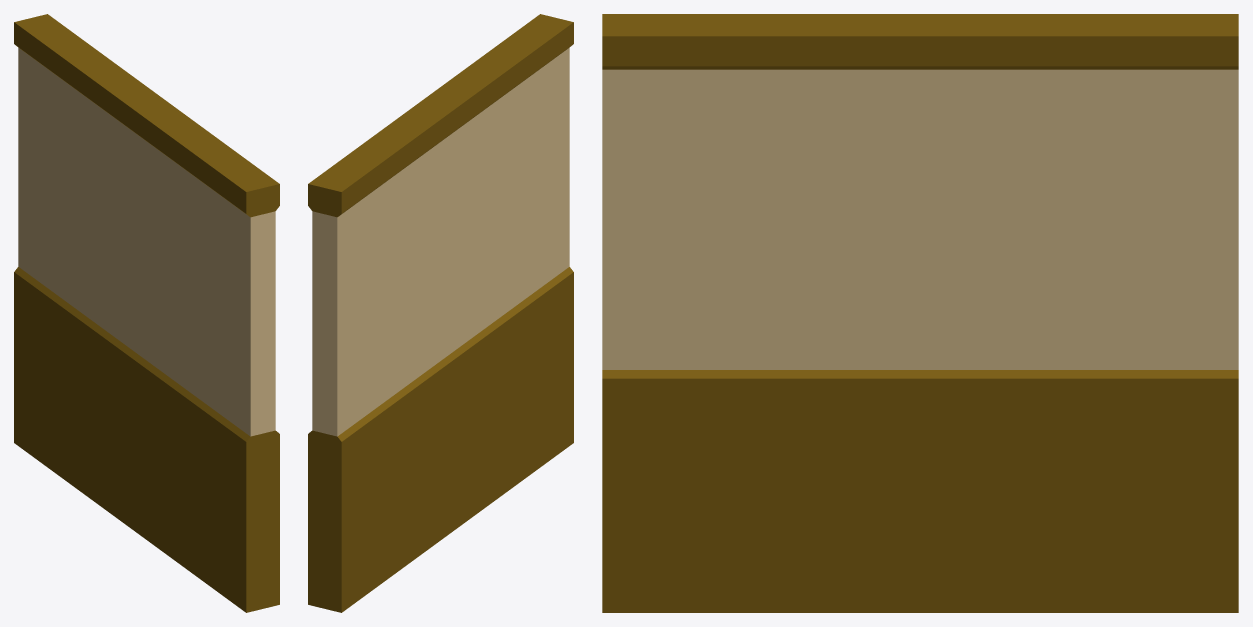
Rendered from Classic_Wall_snaps001_01.fbx.
3 views of the same model, side by side, from view 1: azimuth 30°, elevation 25°; view 2: azimuth 150°, elevation 25°; view 3: azimuth 270°, elevation 25° (orthographic). The views are drawn at different scales.
Parts seen in each view (by area): view 1: Classic_Wall_snaps001_01; view 2: Classic_Wall_snaps001_01; view 3: Classic_Wall_snaps001_01.
Boxes of the visible parts, left/top/right/bottom form: Classic_Wall_snaps001_01: left=14, top=14, right=279, bottom=612; Classic_Wall_snaps001_01: left=308, top=14, right=573, bottom=612; Classic_Wall_snaps001_01: left=602, top=14, right=1238, bottom=612.
Bounding box in the file's own units: 25 × 300 × 300.
